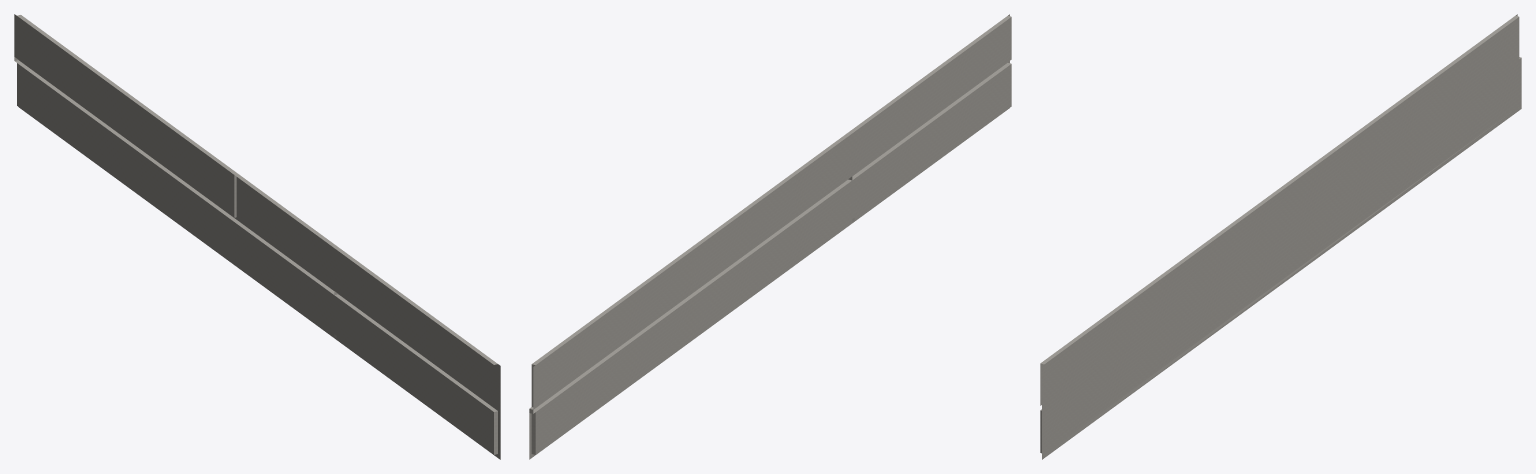
Rendered from BackWall.obj.
The picture shows the model from 3 angles, left to right: view 1: azimuth 30°, elevation 25°; view 2: azimuth 150°, elevation 25°; view 3: azimuth 330°, elevation 25°; orthographic projection.
Parts seen in each view (by area): view 1: Box011; view 2: Box011; view 3: Box011.
Part boxes in pixels (bbox=[...]): Box011: bbox=[14, 14, 500, 459]; Box011: bbox=[529, 14, 1011, 459]; Box011: bbox=[1040, 14, 1521, 459].
Size of the model in its own units: 11.82 by 260 by 2409.
